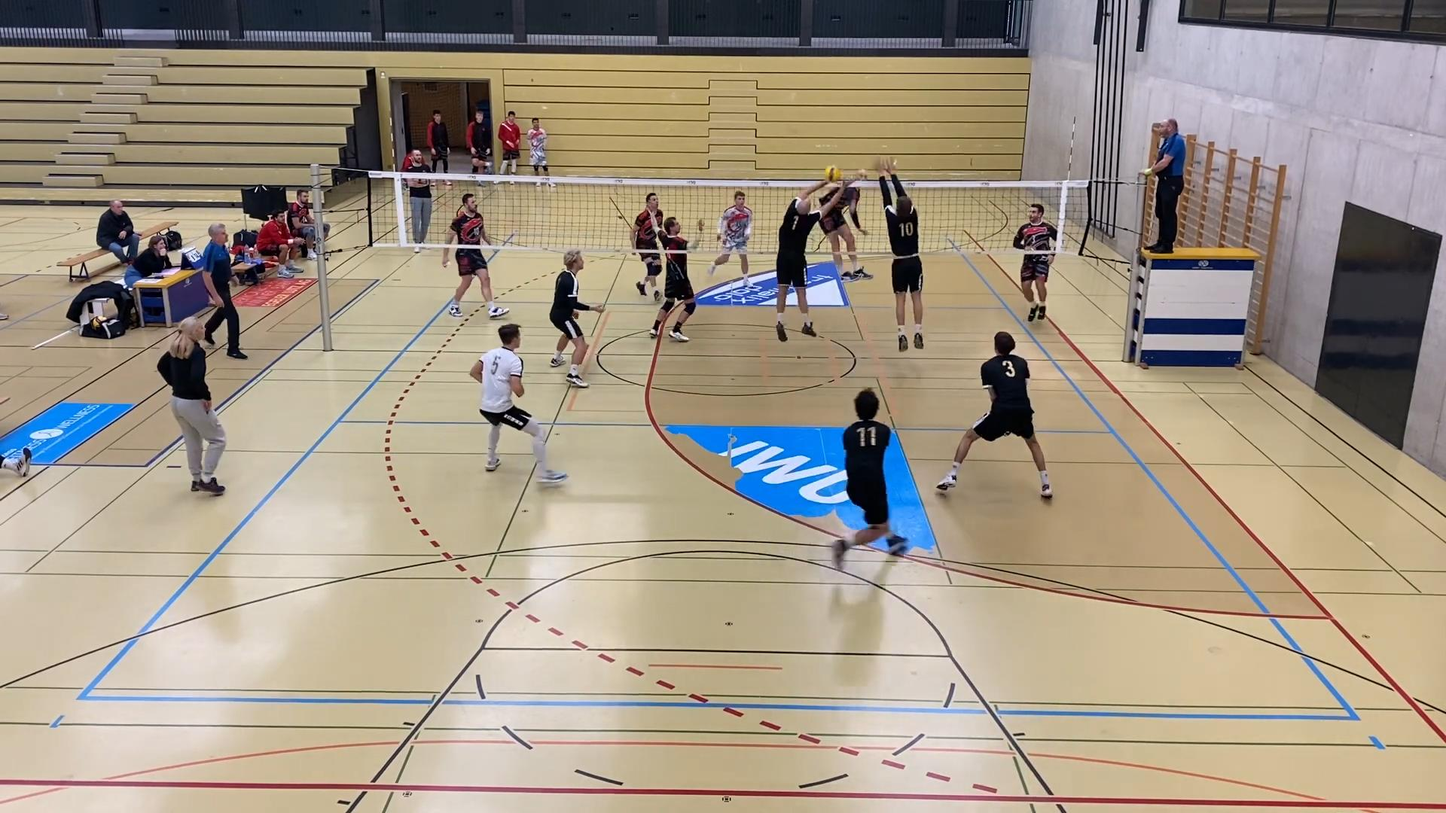attacco: (816, 167, 873, 285)
muro: (774, 175, 854, 346), (875, 155, 929, 353)
